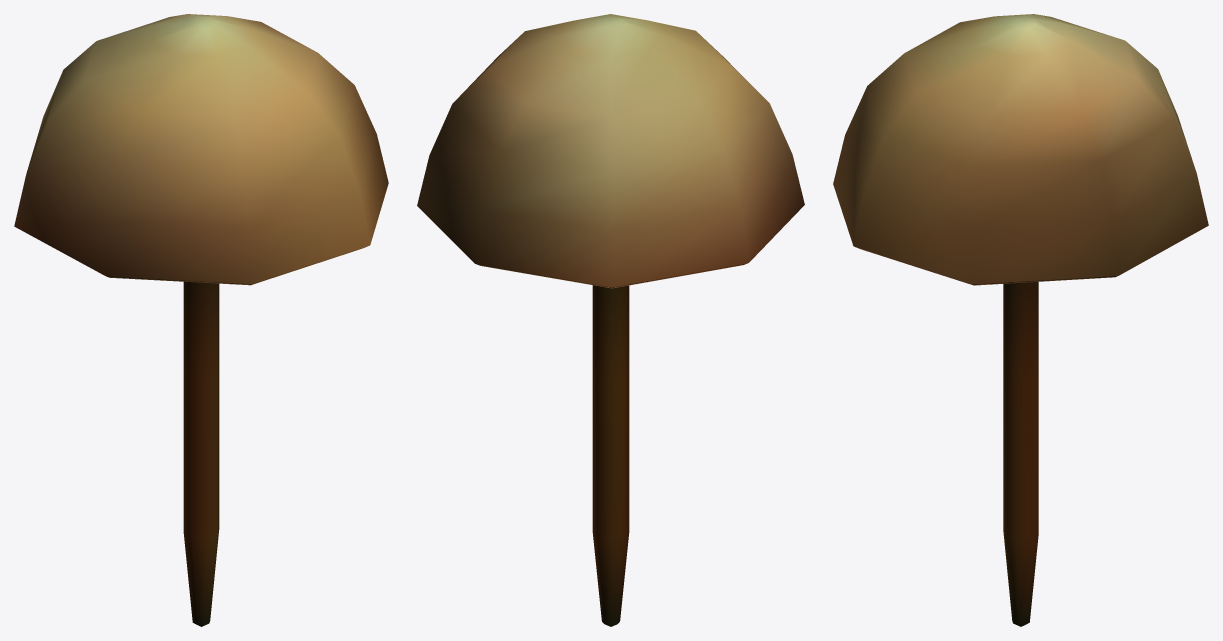
Rendered from plants-mushrooms-brown-mushroom_v2.glb.
3 renders of one model, left to right at view 1: azimuth 30°, elevation 25°; view 2: azimuth 150°, elevation 25°; view 3: azimuth 270°, elevation 25°, orthographic.
Parts seen in each view (by area): view 1: Brown Mushroom_v2; view 2: Brown Mushroom_v2; view 3: Brown Mushroom_v2.
Part boxes in pixels (x1,y1,x2,y2): Brown Mushroom_v2: [14, 14, 388, 626]; Brown Mushroom_v2: [417, 14, 804, 626]; Brown Mushroom_v2: [833, 14, 1208, 626].
Bounding box in the file's own units: 0.0676 × 0.12 × 0.0676.
